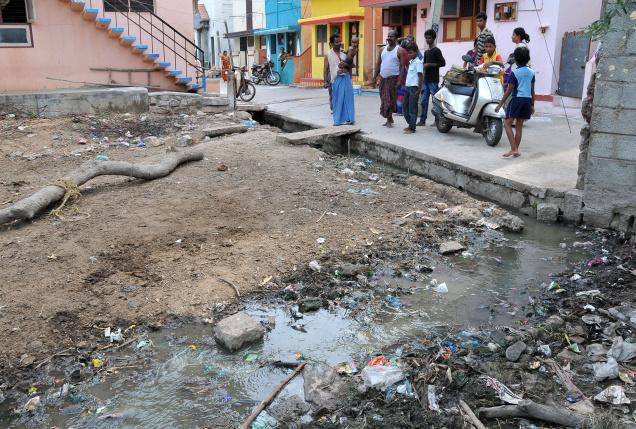person: (493, 44, 538, 162), (324, 28, 360, 125), (373, 25, 409, 122), (416, 24, 452, 121), (460, 3, 500, 63), (336, 27, 365, 74), (472, 34, 506, 68), (504, 22, 538, 56), (215, 44, 236, 82)
trash: (300, 351, 416, 401), (438, 331, 489, 369)
water: (324, 207, 585, 327), (115, 304, 387, 403), (36, 375, 294, 429)
